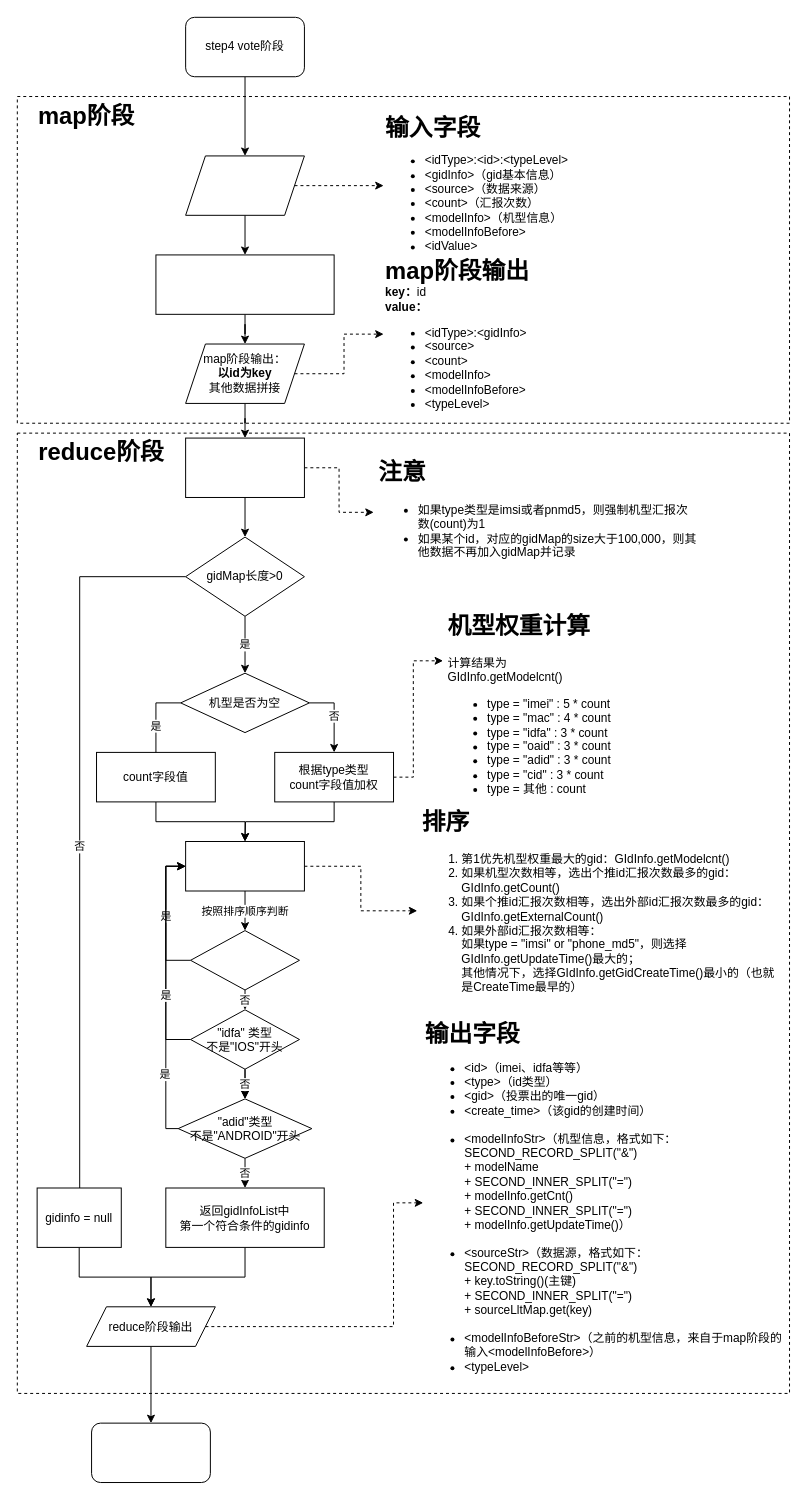
Image size: 807x1500. Some labels were removed from this diagram. The shapes that lost their labels are listed below. From the top down, each one's centre as x and y in pixels, then its label:
point (244, 185): 输入数据： bind阶段输出
point (244, 284): 对输入数据拆分 第一个字段（重点）如下： <id类型>:<id>:<类型等级>
point (244, 467): 对以id为key的数据 聚合所有信息 （ 生成gidMap）
point (244, 866): 对gidInfoList 进行排序
point (244, 960): "TMP"开头
point (150, 1452): step4 vote阶段结束
